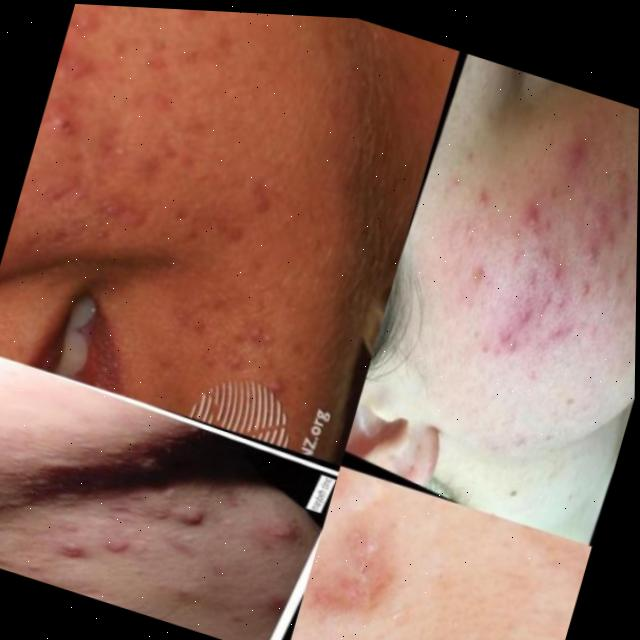Acne: (0, 5, 245, 338), (0, 410, 233, 632), (438, 166, 638, 423), (325, 547, 514, 640)
